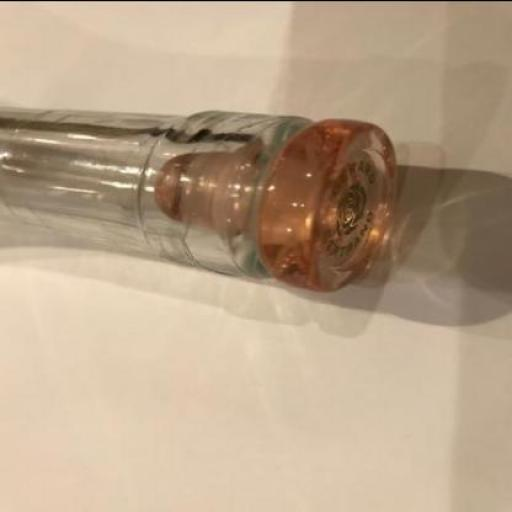glass: (0, 110, 316, 278), (255, 118, 400, 293)
